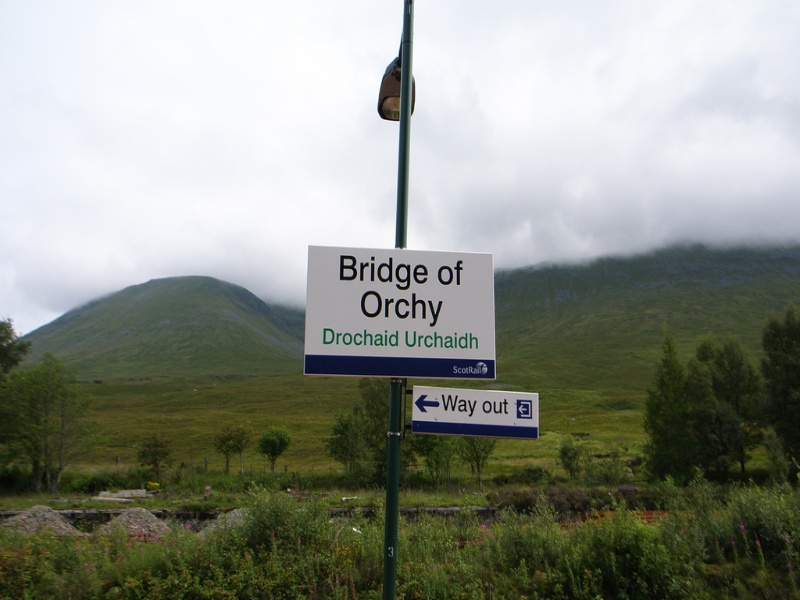way_out: (407, 388, 553, 447)
